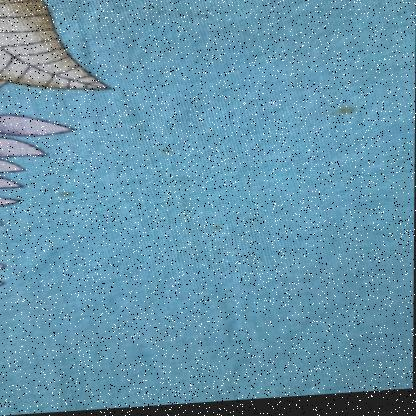spot: (327, 98, 364, 124), (49, 180, 77, 203)
